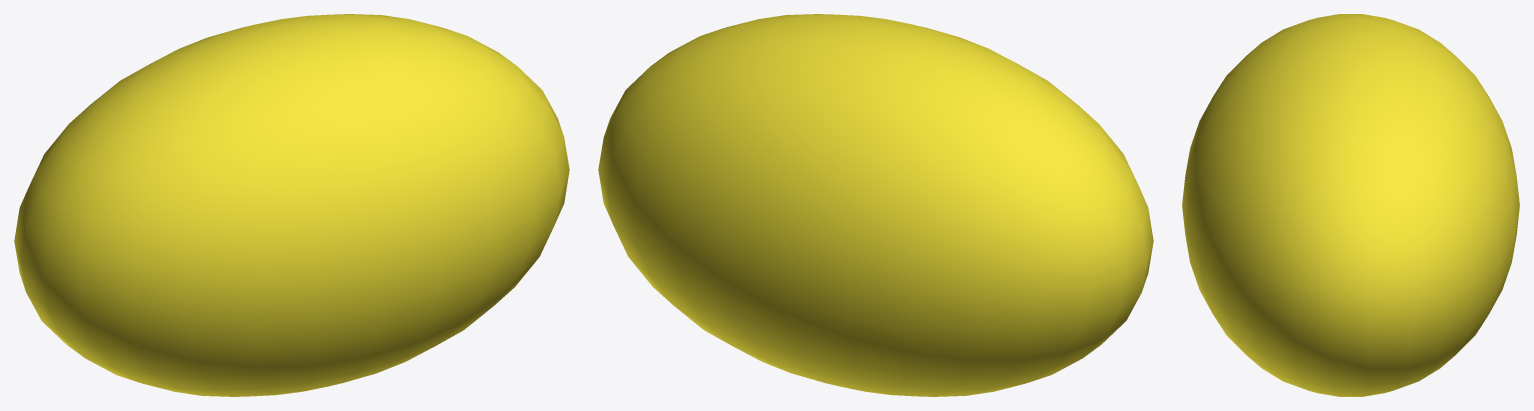
The model's file is lemon.glb.
The picture shows the model from 3 angles, left to right: view 1: azimuth 30°, elevation 25°; view 2: azimuth 150°, elevation 25°; view 3: azimuth 270°, elevation 25°; orthographic projection. The views are drawn at different scales.
Visible parts, largest first — view 1: Sphere; view 2: Sphere; view 3: Sphere.
Boxes of the visible parts, x1,y1,x2,y2 form: Sphere: (14,14,569,396); Sphere: (598,14,1153,396); Sphere: (1182,14,1519,396).
Bounding box in the file's own units: 1 × 0.6178 × 0.6178.
